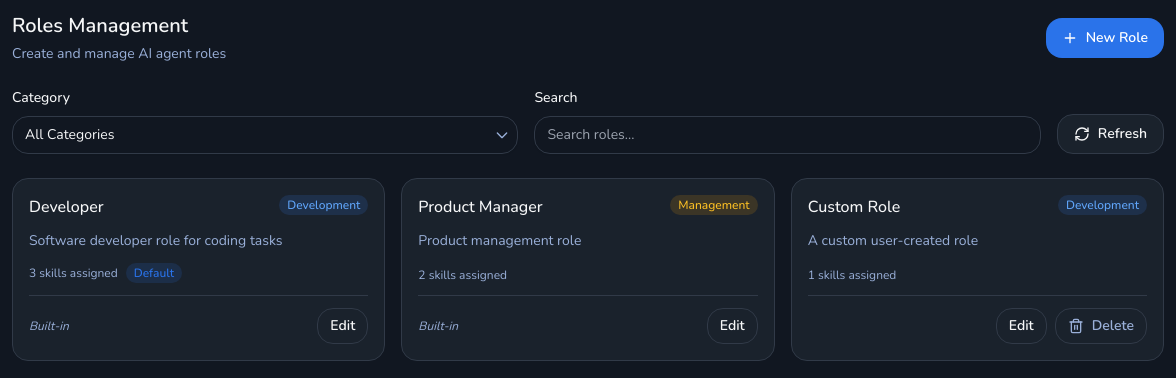
Test: RolesTab › Search Functionality › should filter roles by description
Type "coding" into the field with placeholder "Search roles...".
click(788, 135); type("coding")  # box [534, 116, 1041, 154]
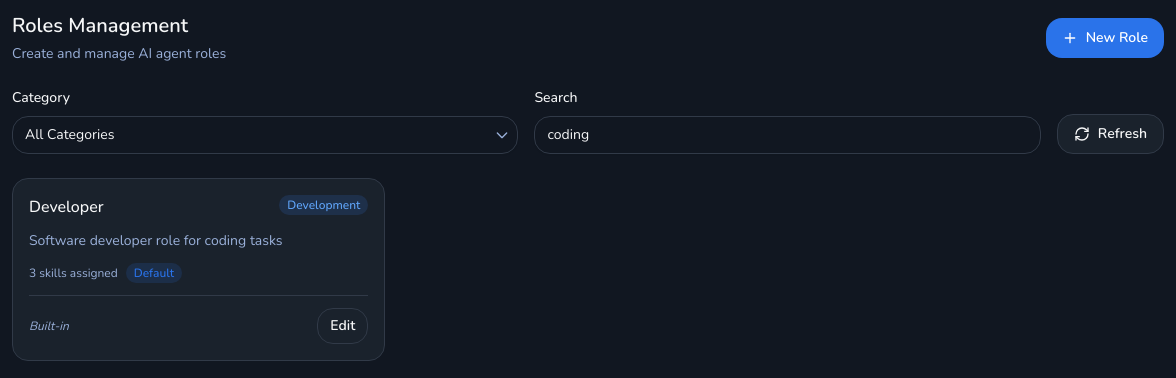
Check: the heading "Developer" is shown, box [29, 195, 104, 219]
Check: the heading "Product Manager" is gone
